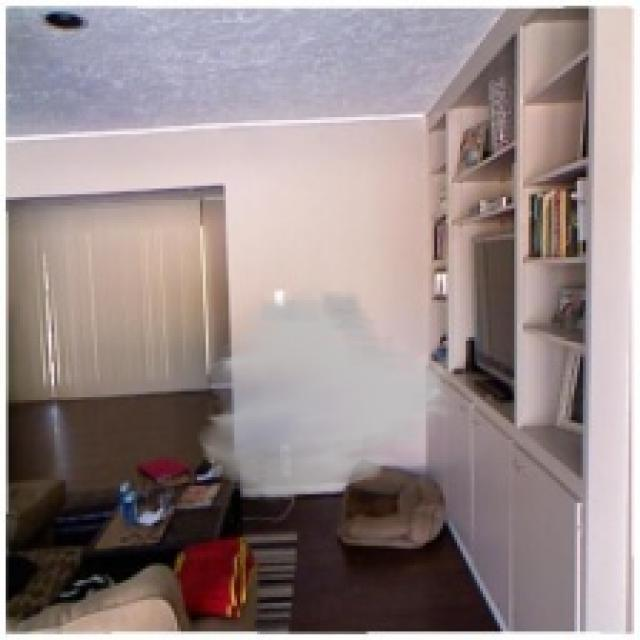Smoke: (194, 286, 463, 503)
